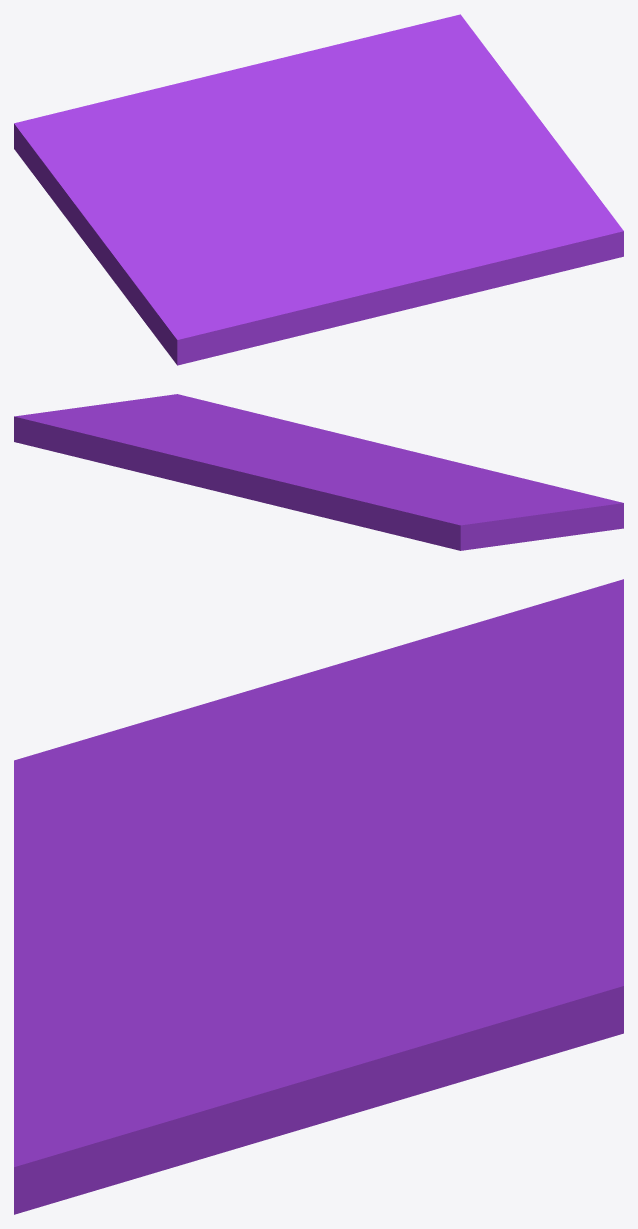
Rendered from Window_138_chunks.fbx.
3 renders of one model, top to bottom at view 1: azimuth 30°, elevation 25°; view 2: azimuth 150°, elevation 25°; view 3: azimuth 270°, elevation 25°, orthographic. The views are drawn at different scales.
Visible parts, largest first — view 1: Window_138_2, Window_138_1, Window_138_0, Window_138_3, Window_138_4, Window_138_5, Window_138_6; view 2: Window_138_2, Window_138_0, Window_138_1, Window_138_3, Window_138_4, Window_138_5, Window_138_6; view 3: Window_138_2, Window_138_1, Window_138_0, Window_138_3, Window_138_4, Window_138_5, Window_138_6.
Boxes of the visible parts, left/top/right/bottom form: Window_138_2: left=288, top=14, right=623, bottom=259; Window_138_1: left=44, top=163, right=334, bottom=365; Window_138_0: left=14, top=56, right=308, bottom=209; Window_138_3: left=231, top=232, right=445, bottom=349; Window_138_4: left=396, top=214, right=610, bottom=306; Window_138_5: left=324, top=188, right=451, bottom=236; Window_138_6: left=215, top=208, right=352, bottom=356; Window_138_2: left=14, top=394, right=321, bottom=480; Window_138_0: left=172, top=458, right=506, bottom=550; Window_138_1: left=312, top=457, right=623, bottom=544; Window_138_3: left=342, top=437, right=533, bottom=481; Window_138_4: left=224, top=405, right=354, bottom=445; Window_138_5: left=275, top=432, right=364, bottom=460; Window_138_6: left=355, top=456, right=461, bottom=472; Window_138_2: left=14, top=828, right=623, bottom=1214; Window_138_1: left=14, top=612, right=511, bottom=889; Window_138_0: left=351, top=579, right=623, bottom=862; Window_138_3: left=14, top=841, right=169, bottom=1005; Window_138_4: left=14, top=953, right=152, bottom=1124; Window_138_5: left=132, top=882, right=281, bottom=1002; Window_138_6: left=103, top=857, right=240, bottom=911.
Bounding box in the file's own units: 1838 × 482 × 1165.
